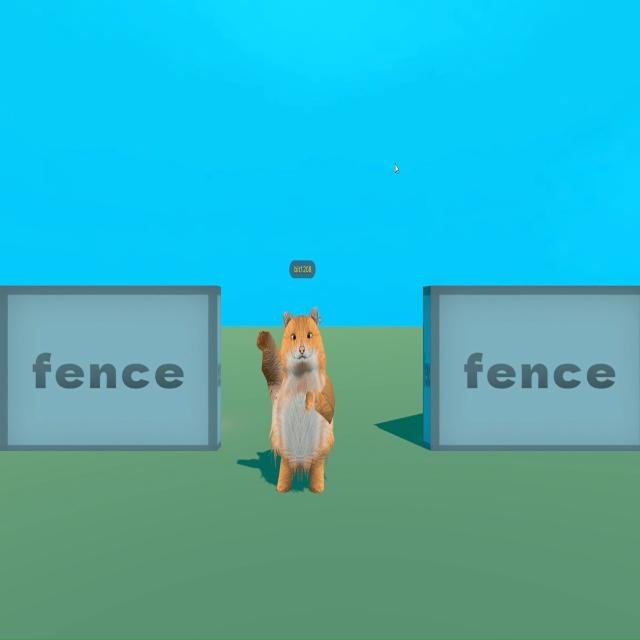human: (252, 286, 336, 509)
